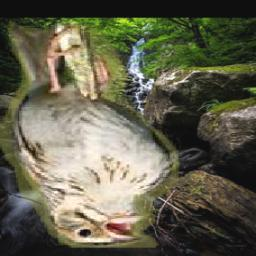Sparrow: (1, 19, 182, 248)
